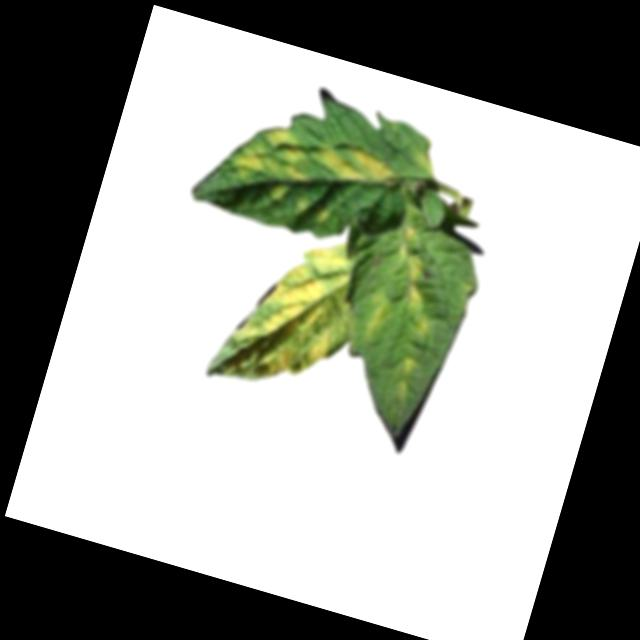Leaf_Mold: (217, 218, 371, 406), (230, 117, 318, 196), (312, 131, 399, 195), (356, 288, 394, 347), (395, 257, 434, 314), (392, 222, 422, 262), (411, 149, 440, 175), (410, 313, 433, 342), (313, 204, 336, 228), (399, 356, 420, 378)
